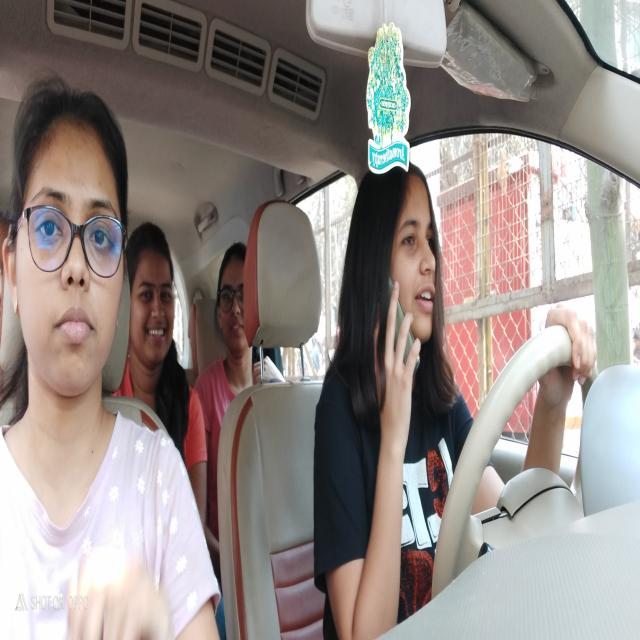mobile: (374, 274, 421, 414)
person: (2, 80, 129, 410), (351, 150, 448, 438), (127, 224, 176, 386), (214, 238, 256, 376)
